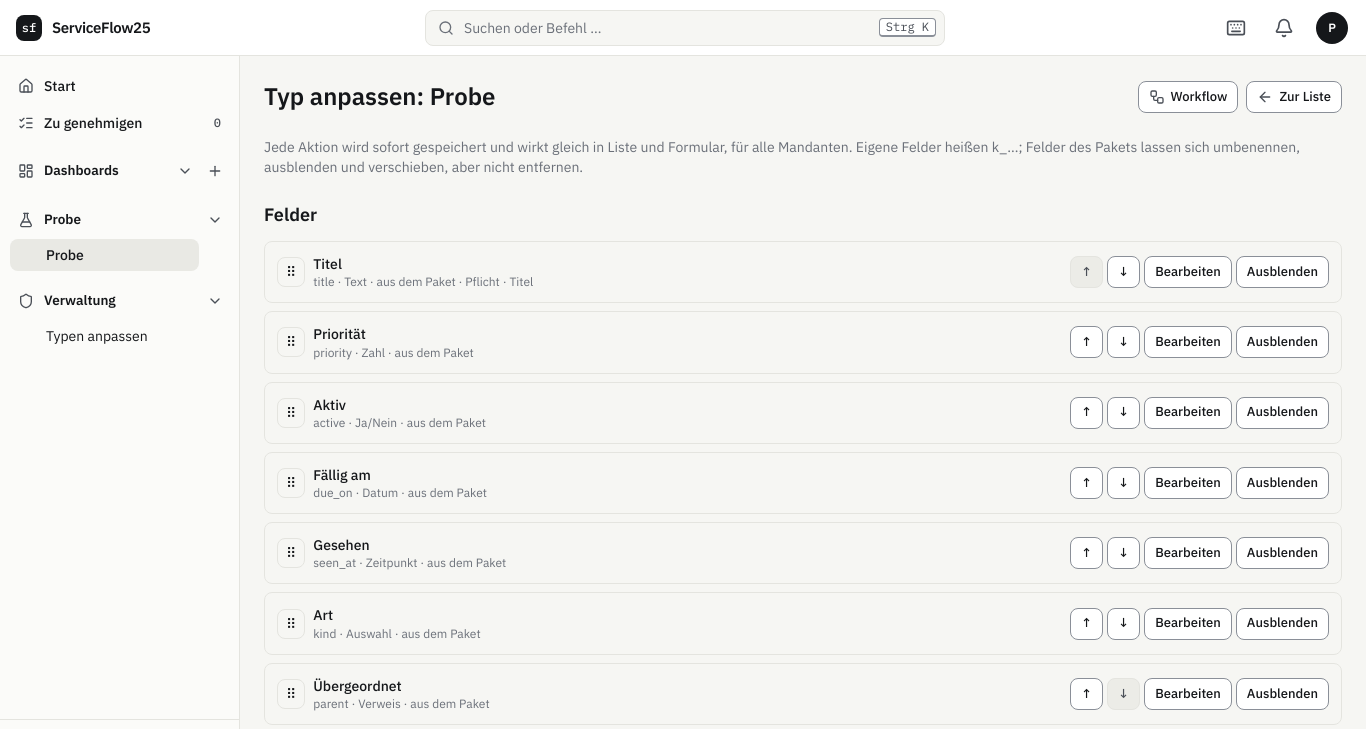
Type editor › reports a change made in between and a refusal of the server
The width and height of the screenshot is (1366, 729).
Expected: the heading "Typ anpassen: Probe" is shown, [264, 80, 496, 112]
Click the button with aria-label "„Aktiv“ ausblenden".
click(1282, 413)  # box [1236, 397, 1329, 429]
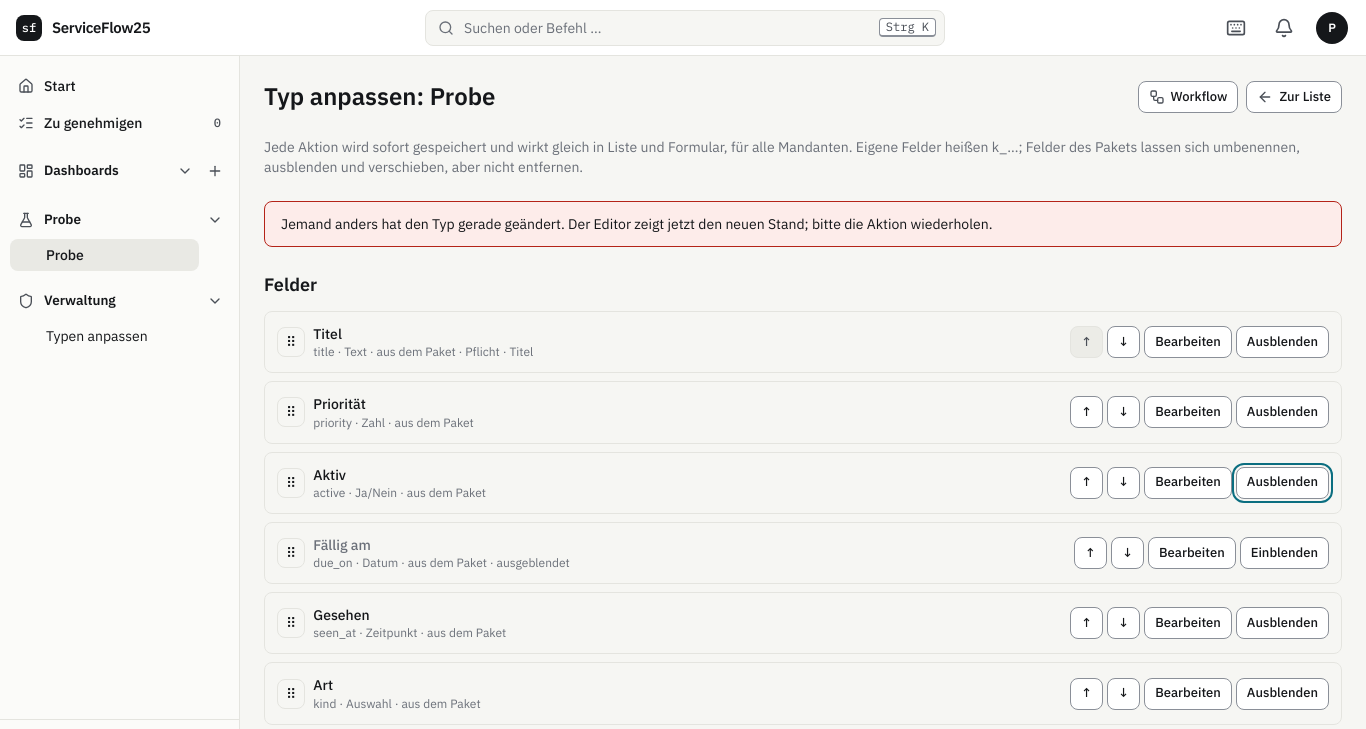
Expected: the text "Jemand anders hat den Typ gerade geändert" is shown, [281, 215, 992, 233]
Click the button "Ausblenden" in the row of "Ja/Nein".
click(1282, 483)  # box [1236, 467, 1329, 499]
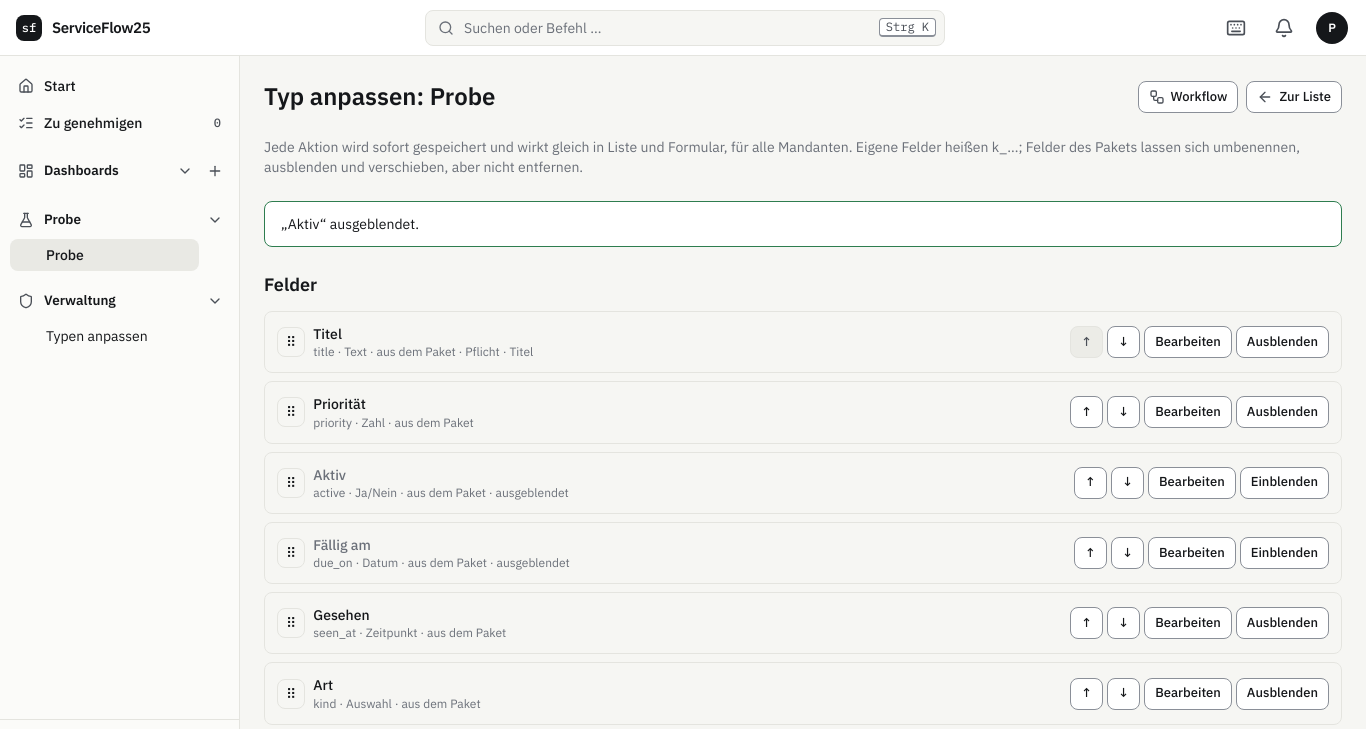
Expected: the text "„Aktiv“ ausgeblendet." is shown, [264, 201, 1342, 247]
Click the button "Ausblenden" in the row of "aus dem Paket · Pflicht · Titel".
click(1282, 342)  # box [1236, 326, 1329, 358]
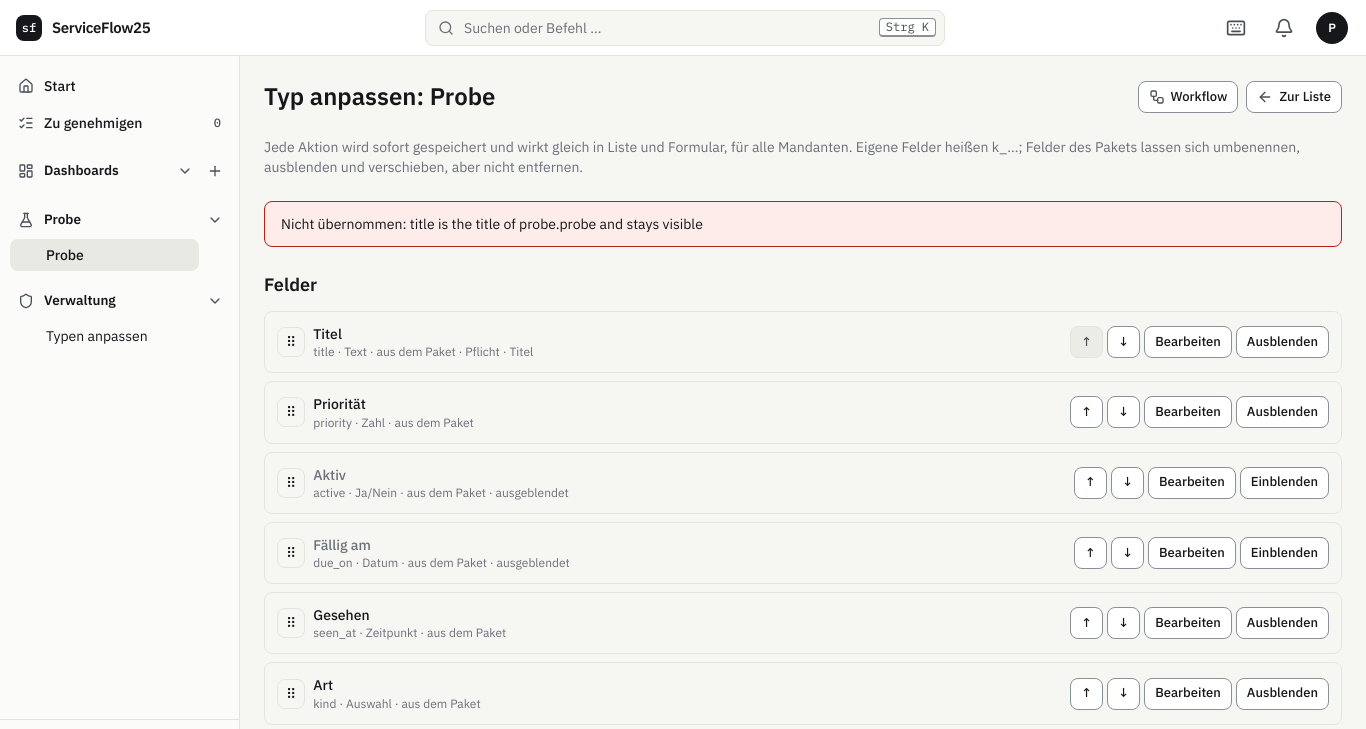
Expected: the text "Nicht übernommen: title is the title of probe.probe and stays visible" is shown, [264, 201, 1342, 247]
